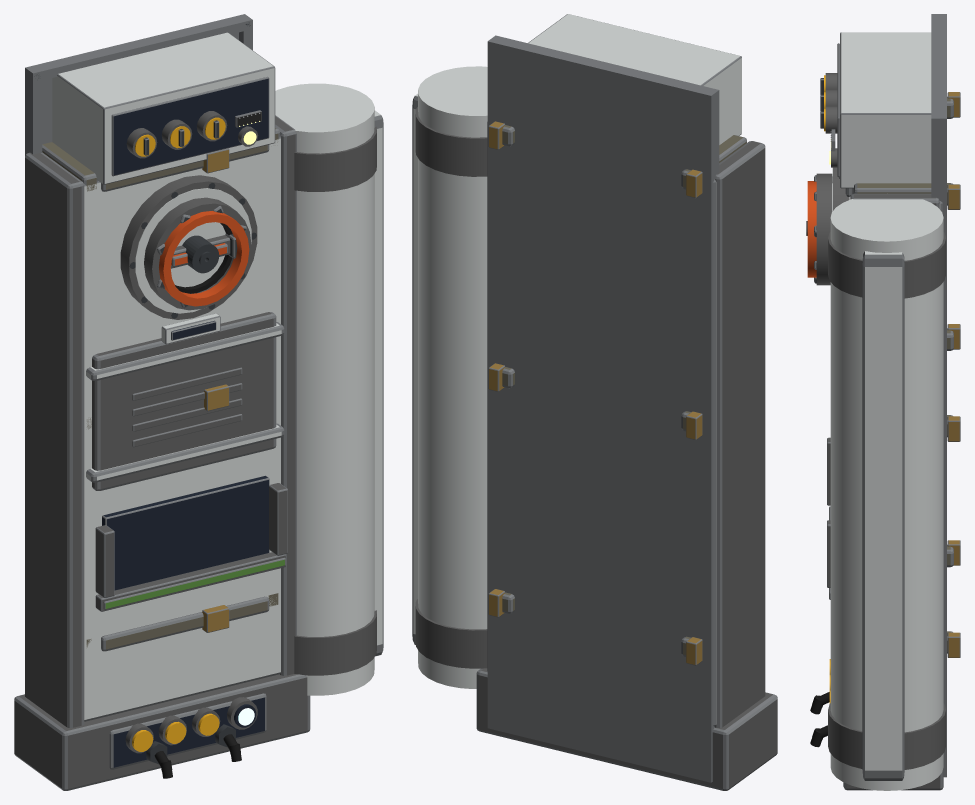
The model's file is oxygen_generator.fbx.
3 renders of one model, left to right at view 1: azimuth 30°, elevation 25°; view 2: azimuth 150°, elevation 25°; view 3: azimuth 270°, elevation 25°, orthographic. The views are drawn at different scales.
Parts seen in each view (by area): view 1: Mesh_OxyGen_Tower, Mesh_OxyGen_HatchDrum, Mesh_OxyGen_ControlHead, Mesh_OxyGen_CellDock_Body, Mesh_OxyGen_Hatch, Mesh_OxyGen_BasePanel, Mesh_OxyGen_TankDock_Ring, Mesh_OxyGen_Straps, Mesh_OxyGen_RackPanel, Cylinder, Mesh_OxyGen_TankDock_Lever; view 2: Mesh_OxyGen_RackPanel, Mesh_OxyGen_HatchDrum, Mesh_OxyGen_Tower, Mesh_OxyGen_ControlHead, Mesh_OxyGen_Straps; view 3: Mesh_OxyGen_HatchDrum, Mesh_OxyGen_ControlHead, Mesh_OxyGen_RackPanel, Mesh_OxyGen_Straps, Mesh_OxyGen_TankDock_Ring, Mesh_OxyGen_Tower, Mesh_OxyGen_BasePanel, Mesh_OxyGen_CellDock_Body, Mesh_OxyGen_Hatch.
Boxes of the visible parts, x1,y1,x2,y2 form: Mesh_OxyGen_Tower: (14, 115, 310, 790); Mesh_OxyGen_HatchDrum: (275, 83, 383, 695); Mesh_OxyGen_ControlHead: (52, 32, 275, 184); Mesh_OxyGen_CellDock_Body: (95, 475, 287, 611); Mesh_OxyGen_Hatch: (120, 175, 257, 344); Mesh_OxyGen_BasePanel: (109, 693, 266, 778); Mesh_OxyGen_TankDock_Ring: (144, 197, 251, 310); Mesh_OxyGen_Straps: (42, 127, 279, 651); Mesh_OxyGen_RackPanel: (25, 14, 252, 154); Cylinder: (182, 235, 219, 273); Mesh_OxyGen_TankDock_Lever: (171, 233, 237, 268); Mesh_OxyGen_RackPanel: (487, 35, 719, 782); Mesh_OxyGen_HatchDrum: (412, 66, 487, 688); Mesh_OxyGen_Tower: (476, 122, 777, 790); Mesh_OxyGen_ControlHead: (528, 14, 741, 144); Mesh_OxyGen_Straps: (488, 121, 746, 665); Mesh_OxyGen_HatchDrum: (828, 199, 945, 790); Mesh_OxyGen_ControlHead: (820, 32, 931, 188); Mesh_OxyGen_RackPanel: (931, 14, 946, 777); Mesh_OxyGen_Straps: (839, 92, 960, 657); Mesh_OxyGen_TankDock_Ring: (807, 173, 832, 285); Mesh_OxyGen_Tower: (843, 188, 943, 790); Mesh_OxyGen_BasePanel: (810, 659, 830, 747); Mesh_OxyGen_CellDock_Body: (827, 437, 830, 599); Mesh_OxyGen_Hatch: (832, 167, 849, 211).
Bounding box in the file's own units: 108 × 213 × 44.66.
